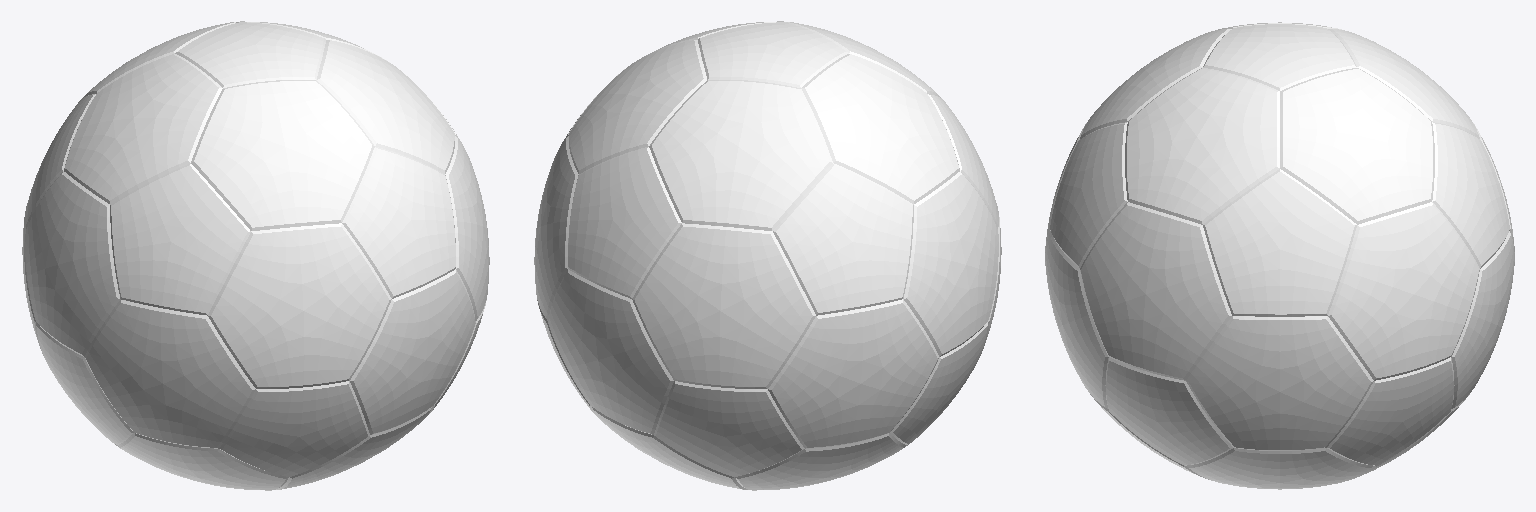
File: ball.obj
The picture shows the model from 3 angles: view 1: azimuth 30°, elevation 25°; view 2: azimuth 150°, elevation 25°; view 3: azimuth 270°, elevation 25°; orthographic projection.
Parts seen in each view (by area): view 1: Icosphere.001; view 2: Icosphere.001; view 3: Icosphere.001.
Part boxes in pixels (left/top/right/bottom): Icosphere.001: left=22, top=21, right=489, bottom=490; Icosphere.001: left=534, top=21, right=1001, bottom=490; Icosphere.001: left=1045, top=22, right=1514, bottom=489.
Size of the model in its own units: 1 by 1 by 1.01.